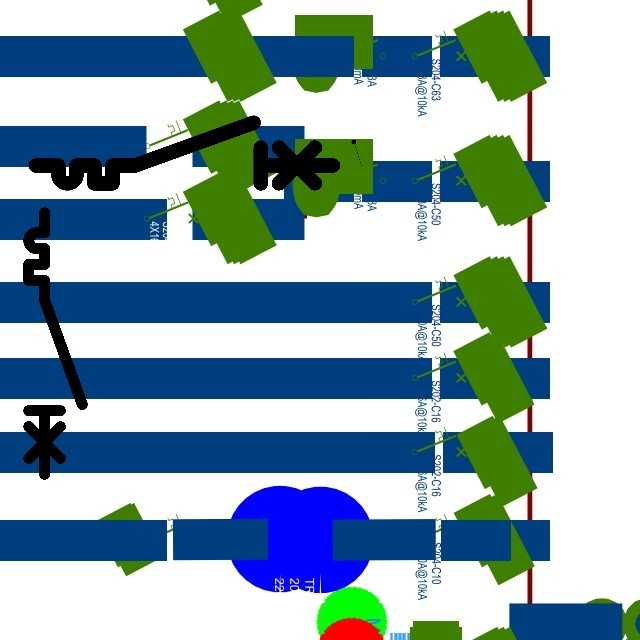interruptor_termomagnetico: (28, 115, 340, 191), (22, 206, 89, 481)
